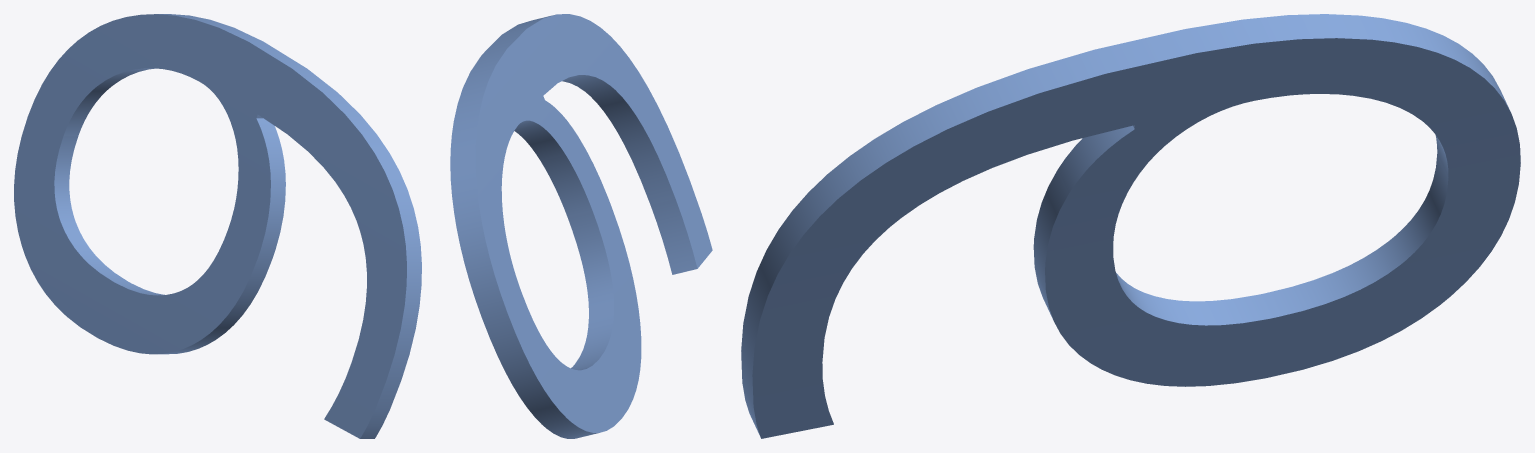
Rendered from New_Number_9.gltf.
The picture shows the model from 3 angles, left to right: view 1: azimuth 30°, elevation 25°; view 2: azimuth 150°, elevation 25°; view 3: azimuth 270°, elevation 25°; orthographic projection. The views are drawn at different scales.
Parts seen in each view (by area): view 1: Part 720; view 2: Part 720; view 3: Part 720.
Boxes of the visible parts, x1,y1,x2,y2 form: Part 720: (14,14,421,438); Part 720: (450,14,712,438); Part 720: (741,14,1520,438).
Bounding box in the file's own units: 0.0023 × 0.00338 × 0.00555.
